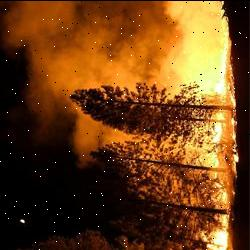fire: (153, 0, 248, 249)
